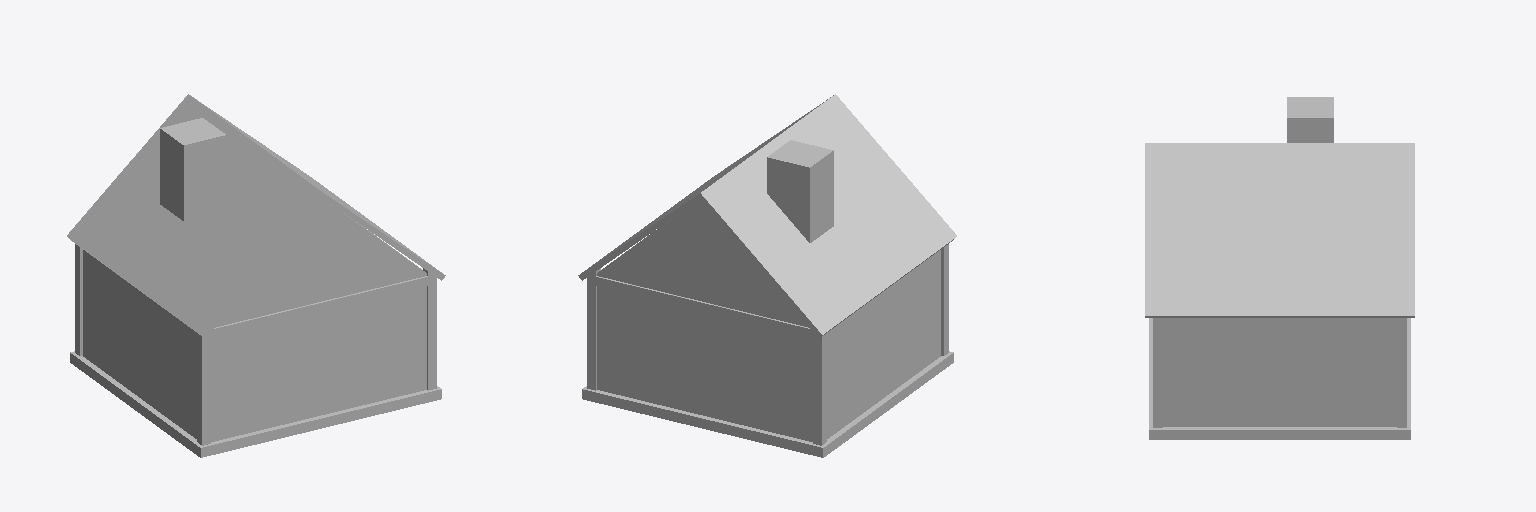
The model's file is house_7.obj.
3 renders of one model, left to right at view 1: azimuth 30°, elevation 25°; view 2: azimuth 150°, elevation 25°; view 3: azimuth 270°, elevation 25°, orthographic.
Visible parts, largest first — view 1: Cube.111_Cube.132; view 2: Cube.111_Cube.132; view 3: Cube.111_Cube.132.
Boxes of the visible parts, x1,y1,x2,y2 form: Cube.111_Cube.132: [67, 94, 445, 457]; Cube.111_Cube.132: [578, 94, 956, 457]; Cube.111_Cube.132: [1145, 97, 1414, 439].
Size of the model in its own units: 6.38 by 6.23 by 6.12.